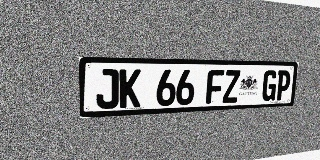6: (156, 69, 177, 106), (176, 70, 195, 105)
F: (206, 70, 224, 104)
G: (261, 70, 278, 101)
J: (96, 69, 119, 109)
K: (119, 69, 141, 108)
P: (275, 70, 291, 101)
Z: (222, 70, 240, 103)
